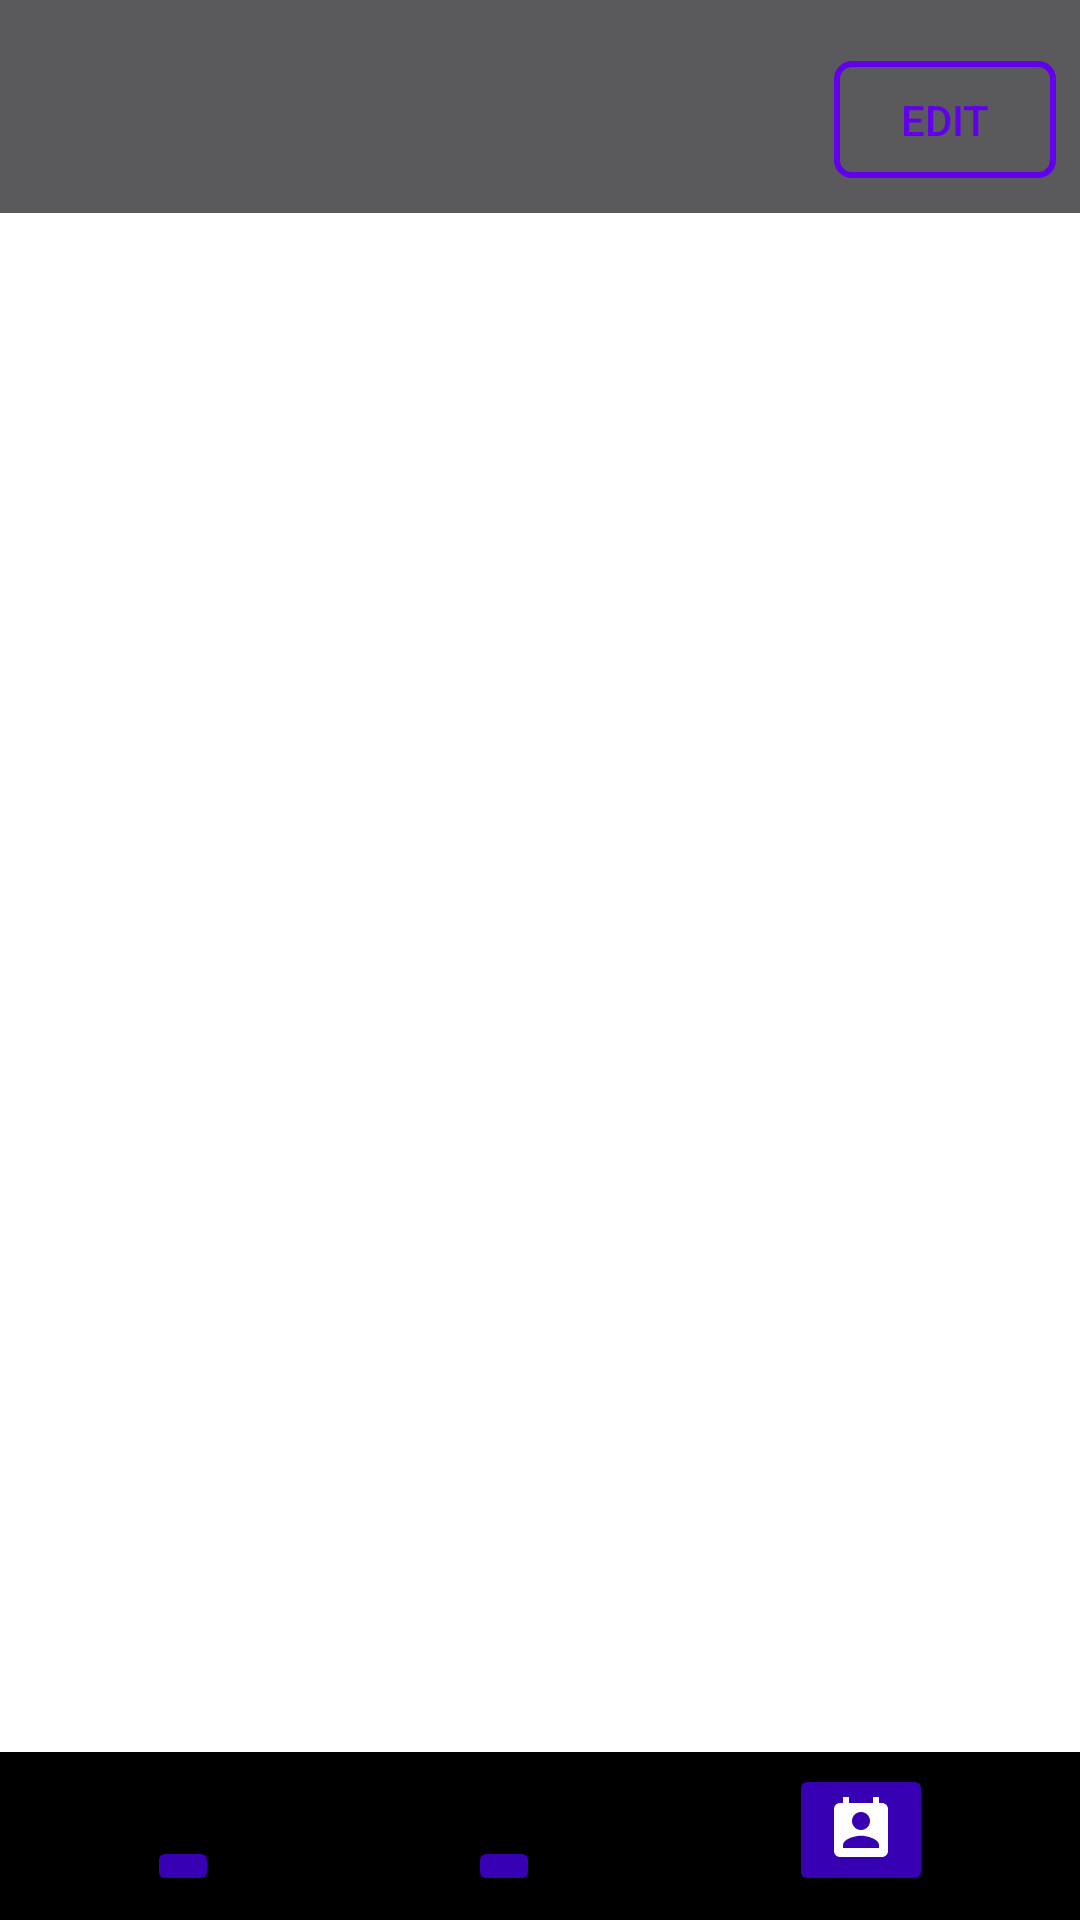

Icons on this 1080w x 1920h Android screen, each with its box as (left=x1, top=y1, right=x2, bottom=y2):
contact: (left=801, top=1782, right=921, bottom=1878)
